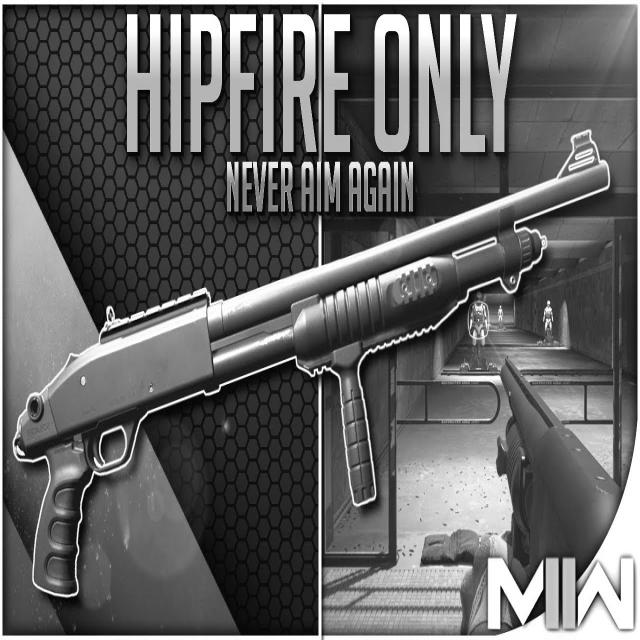Short-Gun: (18, 126, 622, 617)
